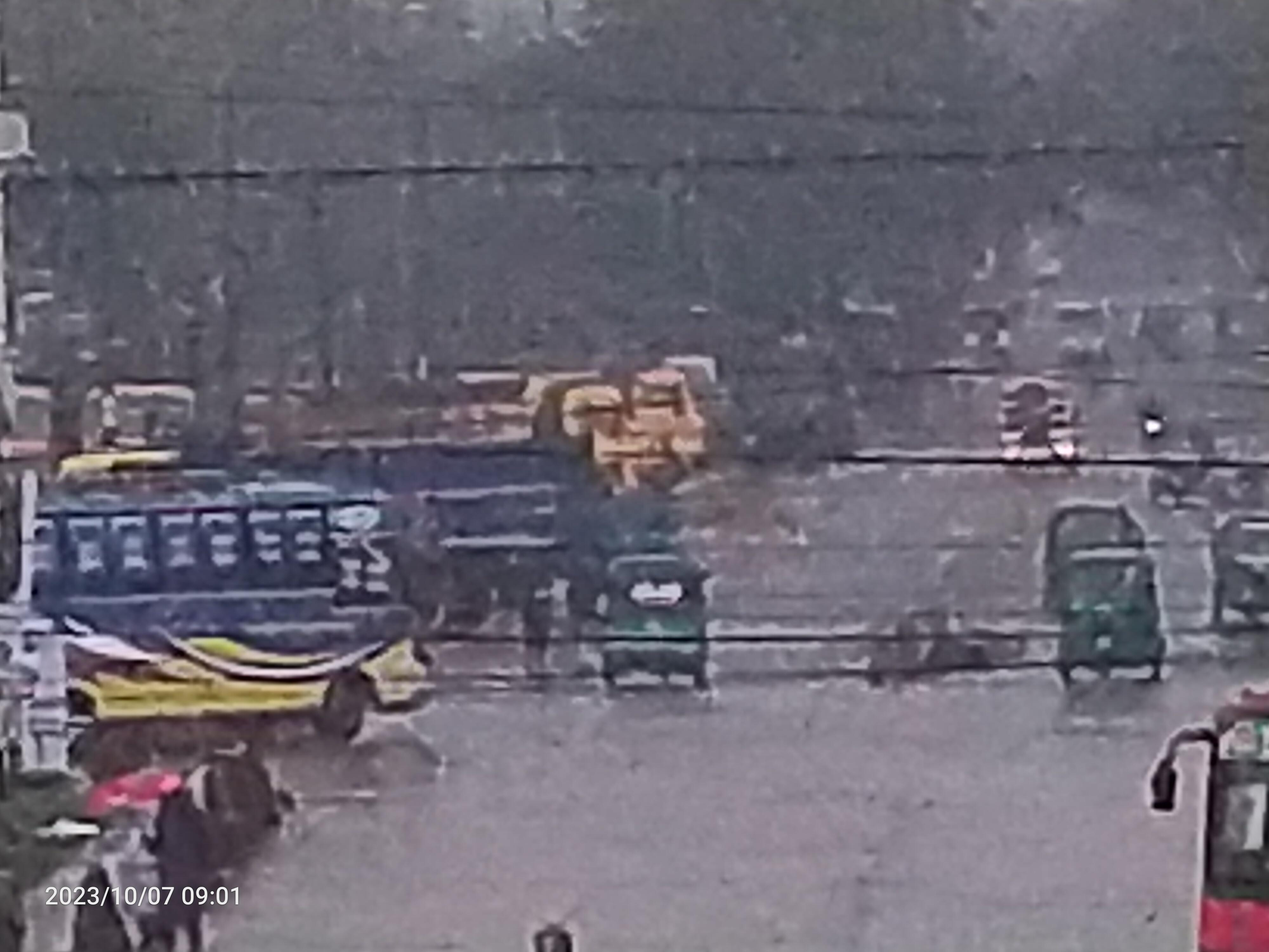Bus: (0, 462, 473, 758), (1120, 663, 1269, 952)
Car: (944, 359, 1106, 479)
